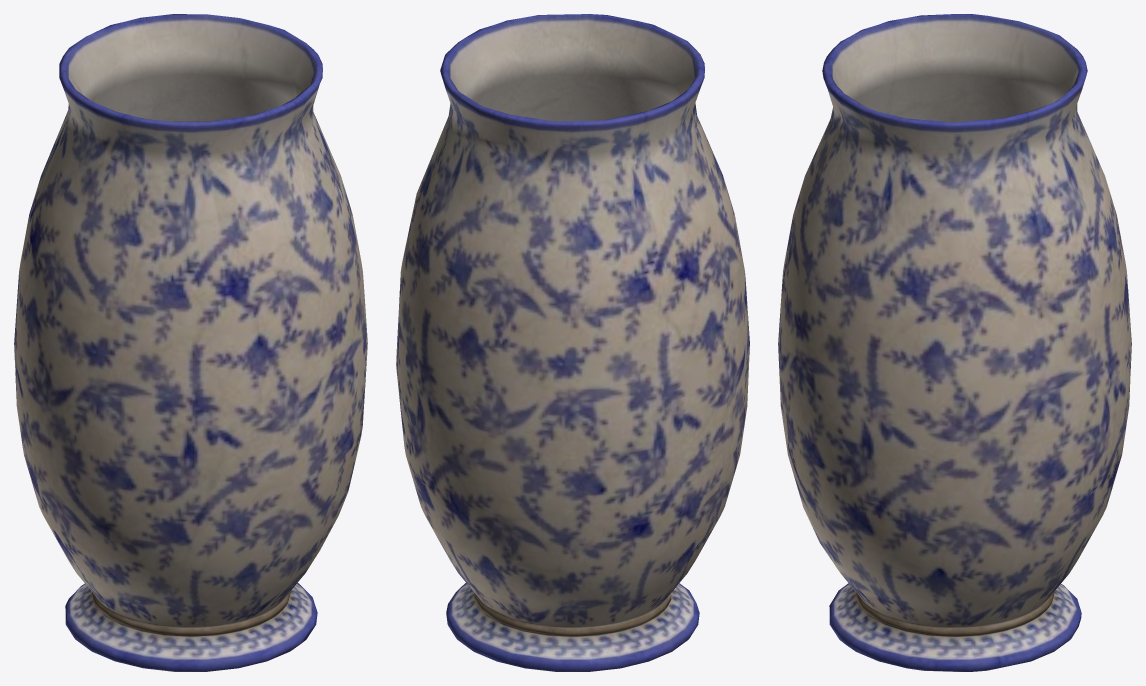
The model's file is antique-ceramic-vase-01.glb.
3 views of the same model, side by side, from view 1: azimuth 30°, elevation 25°; view 2: azimuth 150°, elevation 25°; view 3: azimuth 270°, elevation 25° (orthographic).
Visible parts, largest first — view 1: antique_ceramic_vase_01; view 2: antique_ceramic_vase_01; view 3: antique_ceramic_vase_01.
Boxes of the visible parts, x1,y1,x2,y2 form: antique_ceramic_vase_01: [14, 14, 367, 671]; antique_ceramic_vase_01: [396, 14, 749, 671]; antique_ceramic_vase_01: [778, 14, 1131, 671].
Size of the model in its own units: 0.2549 by 0.4396 by 0.255.
1 material, 1 textured.
